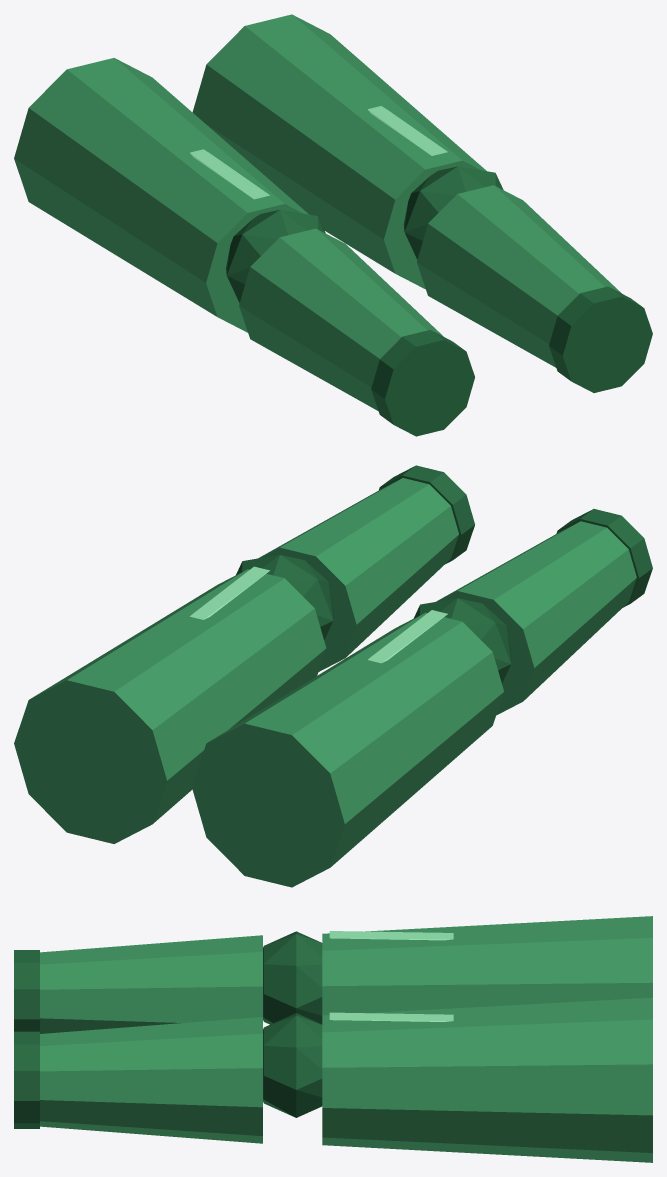
Rendered from drop_adamant_legs.glb.
3 renders of one model, top to bottom at view 1: azimuth 30°, elevation 25°; view 2: azimuth 150°, elevation 25°; view 3: azimuth 270°, elevation 25°, orthographic. The views are drawn at different scales.
Visible parts, largest first — view 1: drop_adamant_legs; view 2: drop_adamant_legs; view 3: drop_adamant_legs.
Part boxes in pixels (x1,y1,x2,y2): drop_adamant_legs: (14, 14, 652, 436); drop_adamant_legs: (14, 465, 652, 887); drop_adamant_legs: (14, 916, 652, 1162).
Bounding box in the file's own units: 0.3872 × 0.1704 × 0.688.
